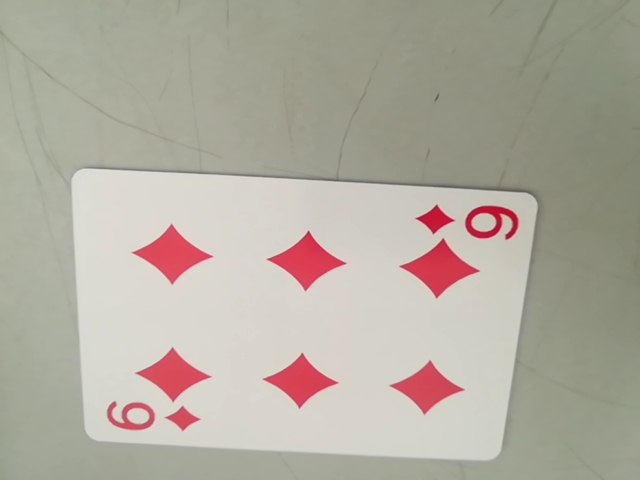fk 6: (412, 198, 524, 244), (99, 395, 202, 443)
